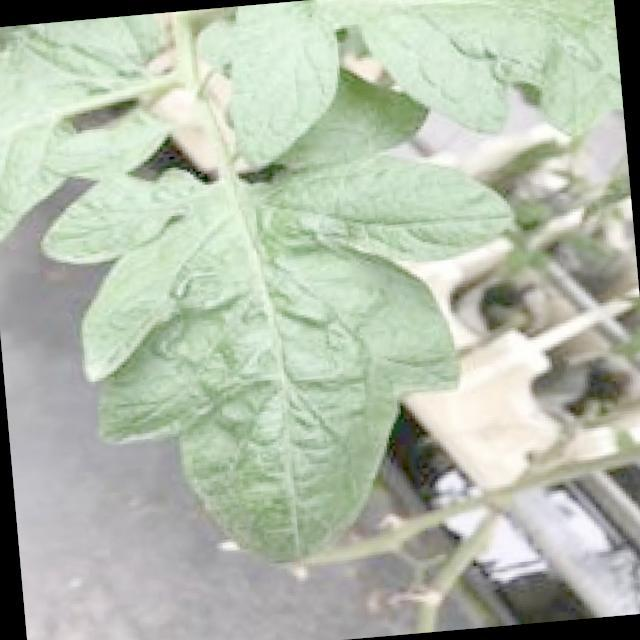Tomato healthy leaf: (36, 160, 510, 569), (199, 0, 618, 173), (0, 13, 185, 239)
